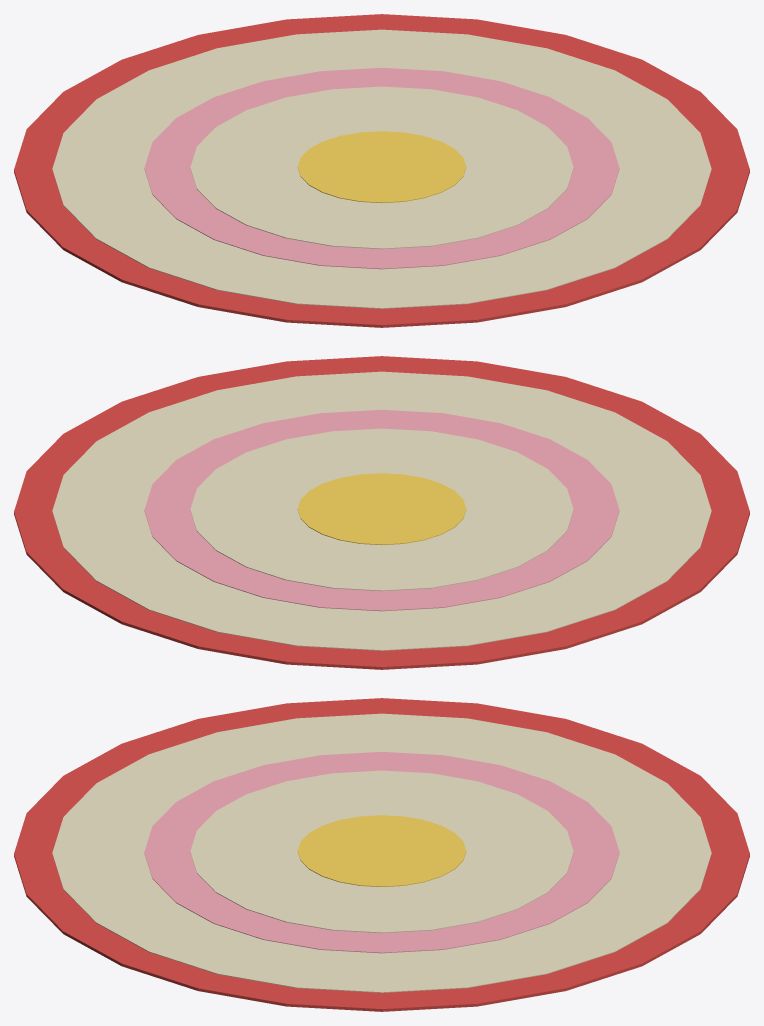
Rendered from rug_round.glb.
3 renders of one model, top to bottom at view 1: azimuth 30°, elevation 25°; view 2: azimuth 150°, elevation 25°; view 3: azimuth 270°, elevation 25°, orthographic.
Visible parts, largest first — view 1: rug_round; view 2: rug_round; view 3: rug_round.
Boxes of the visible parts, left/top/right/bottom form: rug_round: left=14, top=14, right=749, bottom=327; rug_round: left=14, top=356, right=749, bottom=669; rug_round: left=14, top=698, right=749, bottom=1011.
Bounding box in the file's own units: 1.92 × 0.0159 × 1.92.
Materials: 1 (1 with a texture image).
